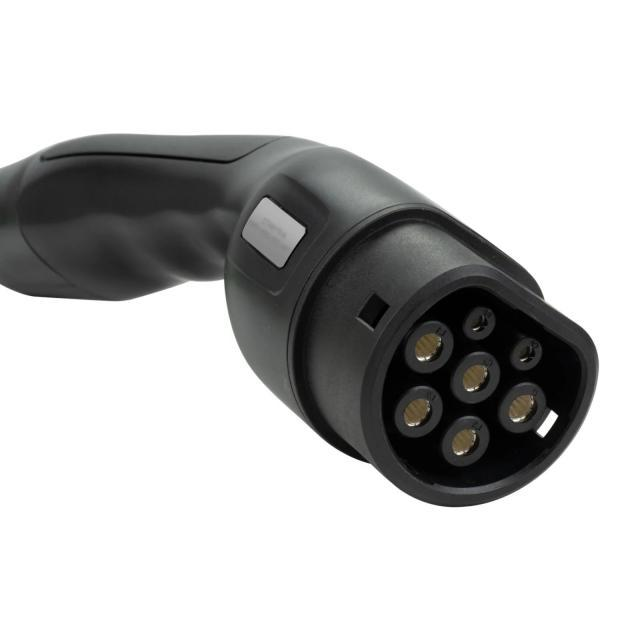Type 2: (306, 253, 640, 504)
